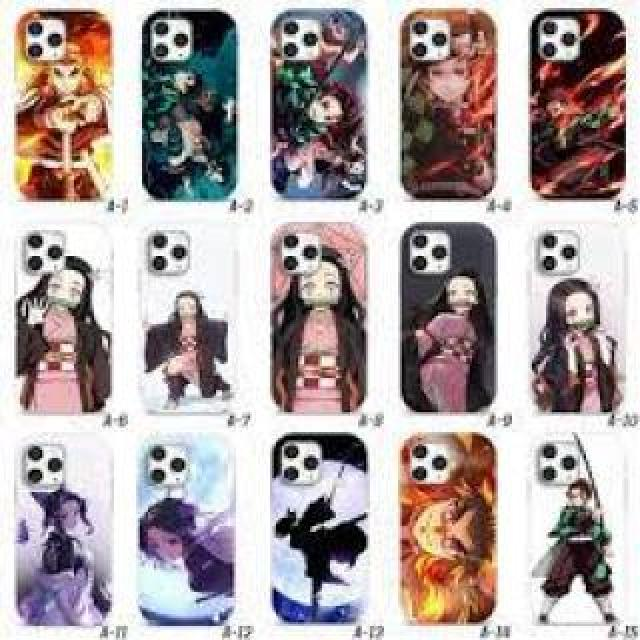smart phone: (126, 17, 262, 220), (132, 413, 255, 635), (262, 217, 383, 438), (257, 0, 378, 212), (272, 427, 395, 633), (5, 222, 127, 426), (393, 18, 522, 202), (5, 430, 118, 637), (10, 3, 123, 205), (132, 222, 255, 406), (523, 428, 622, 640), (402, 218, 510, 412), (530, 10, 630, 205), (404, 430, 504, 620), (547, 210, 628, 418)
